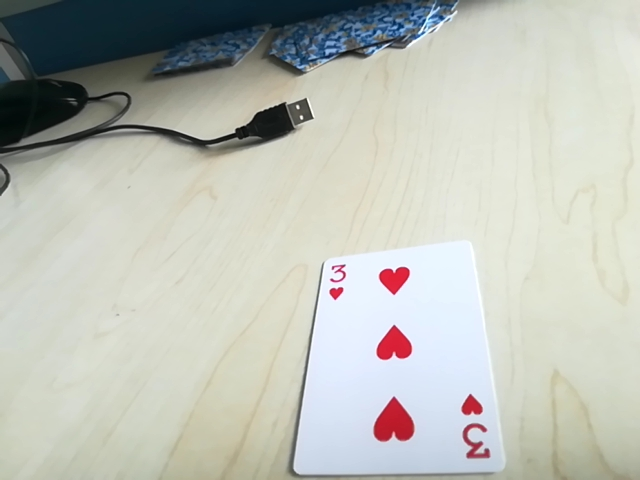hx 3: (457, 407, 495, 467), (320, 261, 357, 301)
